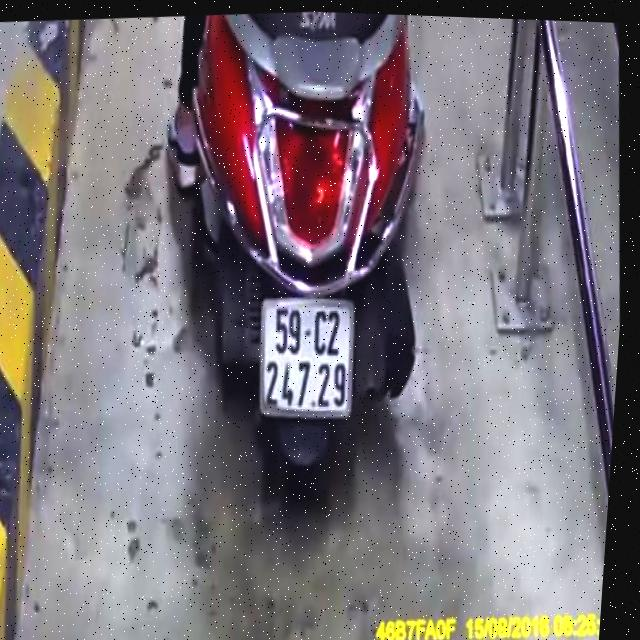motorcycle: (152, 7, 471, 533)
plate: (245, 285, 367, 432)
